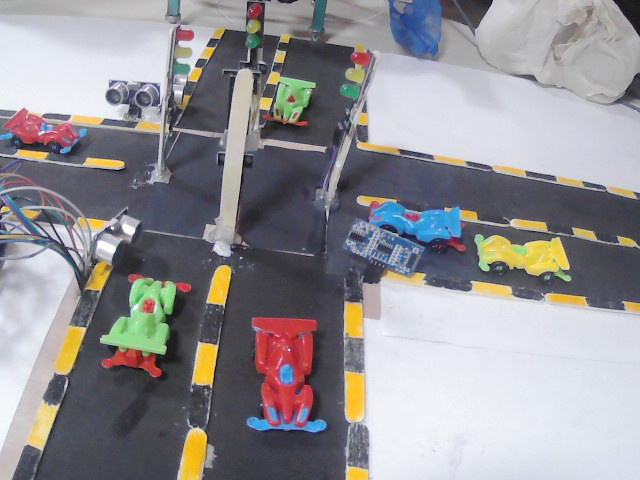car: (254, 309, 333, 421), (120, 274, 181, 377), (481, 226, 562, 281), (5, 104, 89, 154), (381, 199, 459, 251), (276, 69, 312, 137)
traffic_light: (340, 52, 369, 102), (169, 25, 195, 76), (242, 4, 263, 59)
uno_breadboard: (354, 219, 420, 276), (85, 222, 136, 259), (104, 78, 163, 109), (175, 70, 187, 109)
